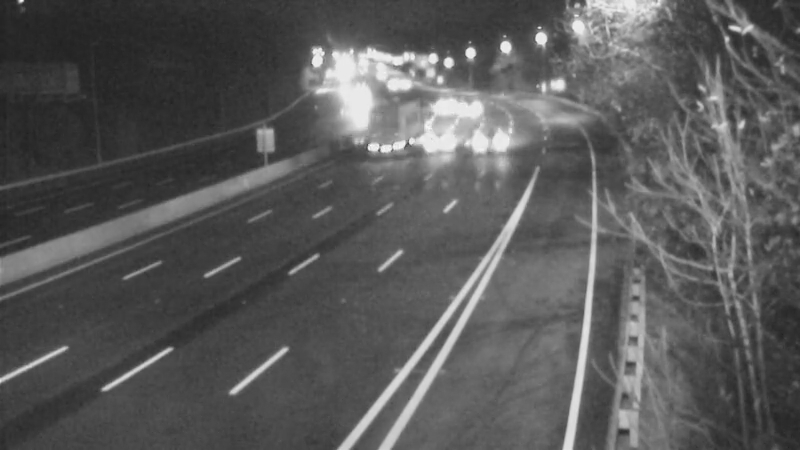vehicle: (417, 78, 467, 128), (441, 80, 491, 130), (381, 85, 431, 135), (416, 118, 466, 168), (462, 114, 512, 164), (330, 77, 380, 127)
